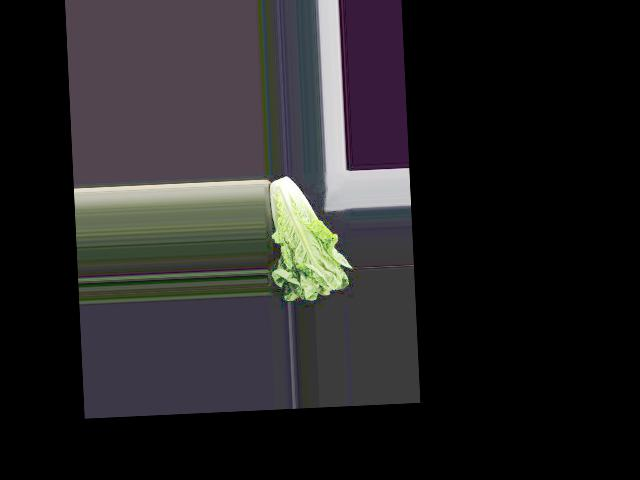lettuce: (272, 175, 348, 297)
